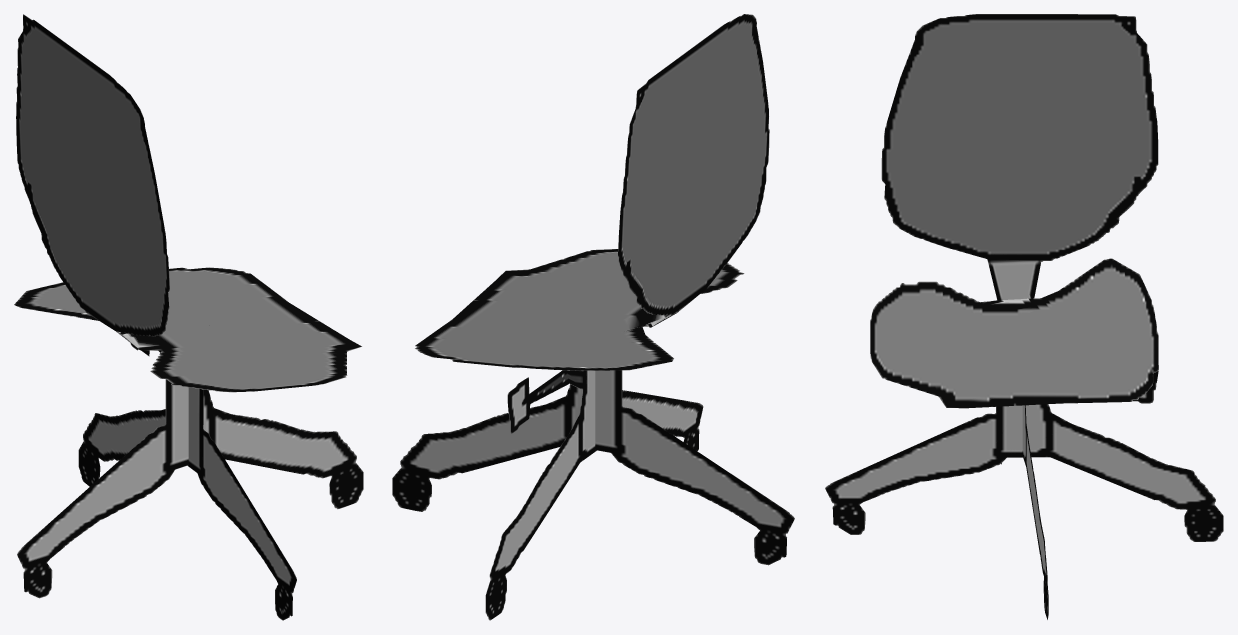
The model's file is SpinningChair.fbx.
3 renders of one model, left to right at view 1: azimuth 30°, elevation 25°; view 2: azimuth 150°, elevation 25°; view 3: azimuth 270°, elevation 25°, orthographic. The views are drawn at different scales.
Parts seen in each view (by area): view 1: Cube; view 2: Cube; view 3: Cube.
Part boxes in pixels (left/top/right/bottom): Cube: left=14, top=14, right=363, bottom=620; Cube: left=392, top=14, right=794, bottom=620; Cube: left=825, top=14, right=1223, bottom=619.
Size of the model in its own units: 90.75 by 122 by 91.52.
